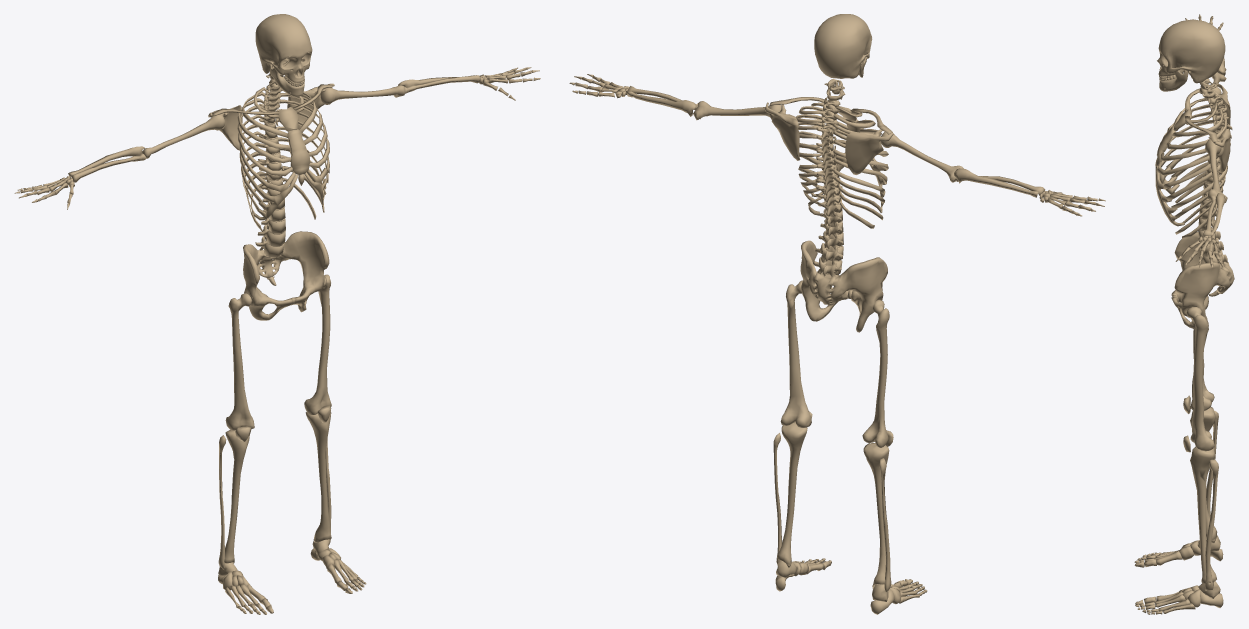
Rendered from Skeletal.fbx.
3 views of the same model, side by side, from view 1: azimuth 30°, elevation 25°; view 2: azimuth 150°, elevation 25°; view 3: azimuth 270°, elevation 25° (orthographic). The views are drawn at different scales.
Visible parts, largest first — view 1: FemaleSkeletalHipLeftandSacrum, FemaleSkull, FemaleSkeletalFemurRight, FemaleSkeletalFemurLeft, FemaleSkeletalTibiaLeft, FemaleSkeletalTibiaRight, FemaleSkeletalSternum, FemaleSkeletalCostalCartilages, FemaleSkeletalHumerusLeft, FemaleSkeletalHumerusRight, FemaleSkeletalRibs04, FemaleSkeletalRibs05; view 2: FemaleSkeletalHipLeftandSacrum, FemaleSkull, FemaleSkeletalFemurLeft, FemaleSkeletalFemurRight, FemaleSkeletalTibiaLeft, FemaleSkeletalTibiaRight, FemaleSkeletalScapulaLeftGeoRight, FemaleSkeletalScapulaLeft, FemaleSkeletalHumerusLeft, FemaleSkeletalHumerusRight; view 3: FemaleSkull, FemaleSkeletalHipLeftandSacrum, FemaleSkeletalFemurLeft, FemaleSkeletalTibiaLeft, FemaleSkeletalFibulaLeft, FemaleSkeletalCostalCartilages, FemaleSkeletalHumerusLeft, FemaleSkeletalRibs05, FemaleSkeletalScapulaLeft, FemaleSkeletalSternum, FemaleSkeletalRibs03, FemaleSkeletalTibiaRight (+23 smaller).
Boxes of the visible parts, x1,y1,x2,y2 form: FemaleSkeletalHipLeftandSacrum: (243, 231, 329, 320); FemaleSkull: (255, 14, 312, 82); FemaleSkeletalFemurRight: (225, 293, 254, 430); FemaleSkeletalFemurLeft: (304, 274, 331, 414); FemaleSkeletalTibiaLeft: (305, 411, 331, 542); FemaleSkeletalTibiaRight: (224, 430, 250, 563); FemaleSkeletalSternum: (278, 107, 310, 185); FemaleSkeletalCostalCartilages: (253, 168, 327, 220); FemaleSkeletalHumerusLeft: (320, 85, 405, 104); FemaleSkeletalHumerusRight: (142, 114, 224, 158); FemaleSkeletalRibs04: (237, 99, 327, 163); FemaleSkeletalRibs05: (238, 109, 329, 176); FemaleSkeletalHipLeftandSacrum: (800, 240, 887, 332); FemaleSkull: (814, 14, 872, 78); FemaleSkeletalFemurLeft: (780, 280, 811, 427); FemaleSkeletalFemurRight: (862, 300, 889, 447); FemaleSkeletalTibiaLeft: (777, 422, 807, 567); FemaleSkeletalTibiaRight: (863, 443, 889, 588); FemaleSkeletalScapulaLeftGeoRight: (845, 129, 893, 174); FemaleSkeletalScapulaLeft: (765, 102, 800, 160); FemaleSkeletalHumerusLeft: (693, 101, 781, 120); FemaleSkeletalHumerusRight: (880, 132, 963, 182); FemaleSkull: (1157, 19, 1225, 83); FemaleSkeletalHipLeftandSacrum: (1171, 232, 1234, 329); FemaleSkeletalFemurLeft: (1186, 307, 1214, 451); FemaleSkeletalTibiaLeft: (1190, 446, 1216, 583); FemaleSkeletalFibulaLeft: (1205, 459, 1218, 590); FemaleSkeletalCostalCartilages: (1155, 156, 1184, 226); FemaleSkeletalHumerusLeft: (1205, 139, 1227, 202); FemaleSkeletalRibs05: (1156, 119, 1218, 175); FemaleSkeletalScapulaLeft: (1208, 128, 1230, 172); FemaleSkeletalSternum: (1155, 109, 1192, 166); FemaleSkeletalRibs03: (1166, 104, 1227, 149); FemaleSkeletalTibiaRight: (1190, 407, 1217, 543).
Size of the model in its own units: 142 by 147 by 23.77.
